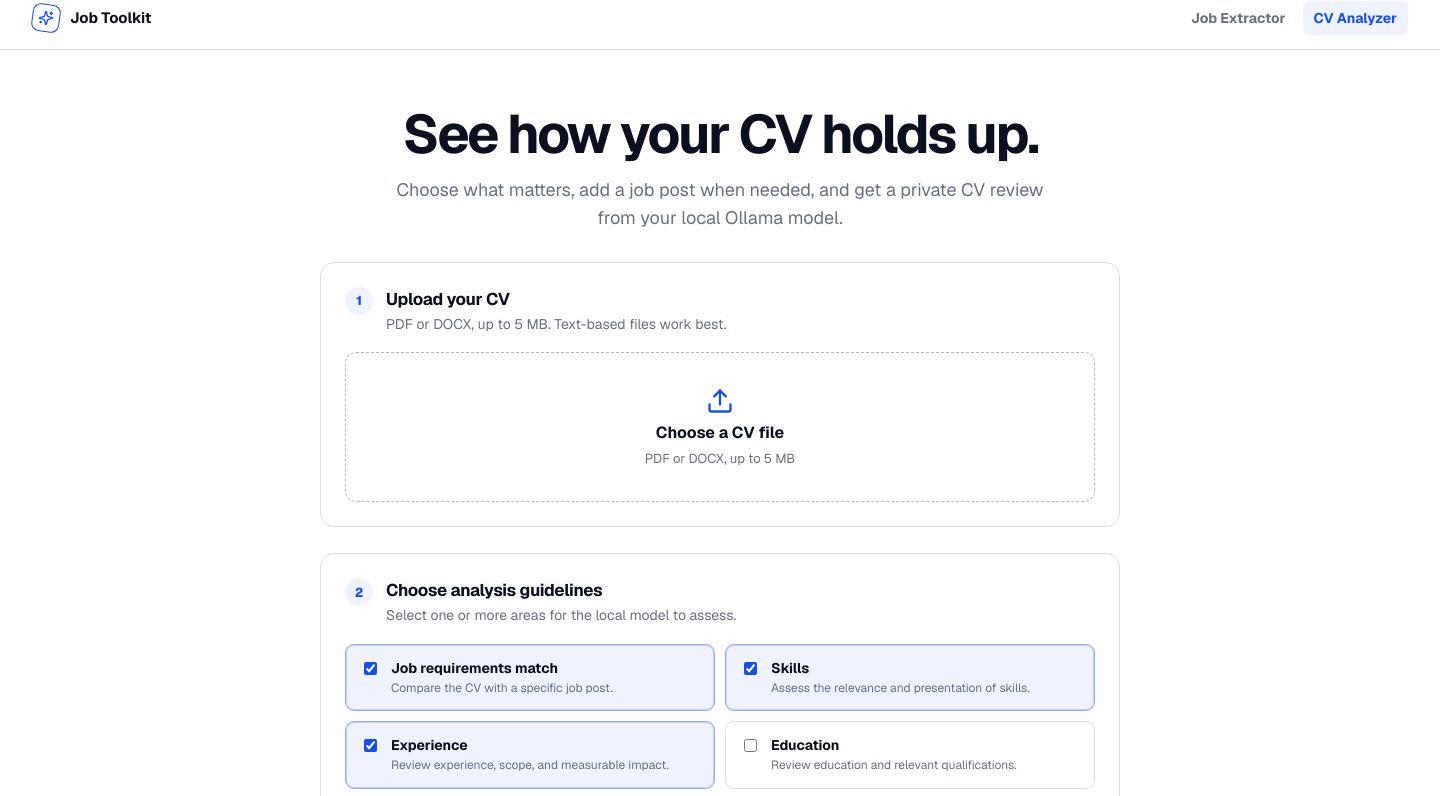
Test: CV analyzer UI › validates missing files and conditionally shows the target job input
The image size is (1440, 796).
Click the checkbox labelled "Job requirements match": point(370, 668) [364, 662, 377, 674]
(page scrolled)
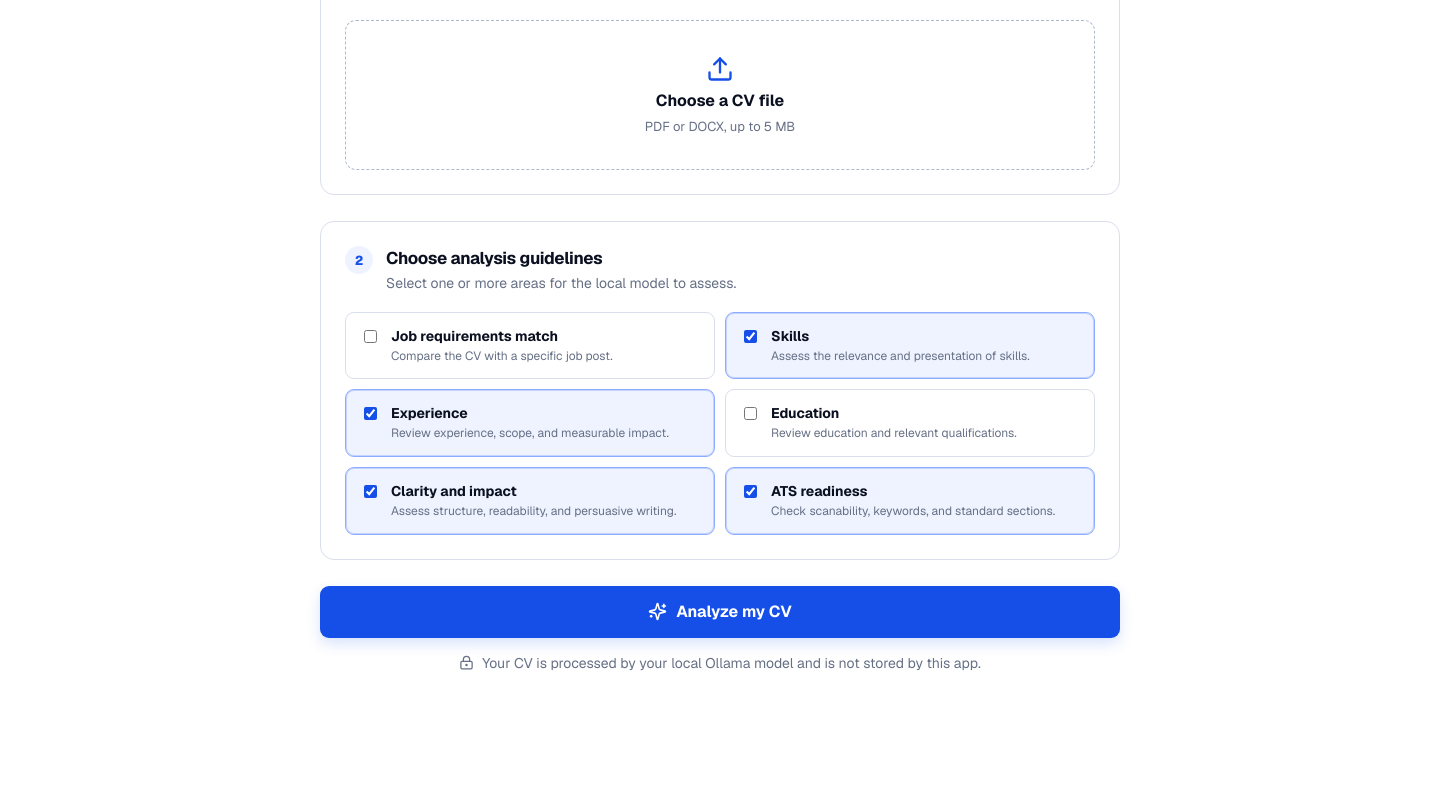
Click the button "Analyze my CV": point(720, 612) [320, 586, 1120, 638]
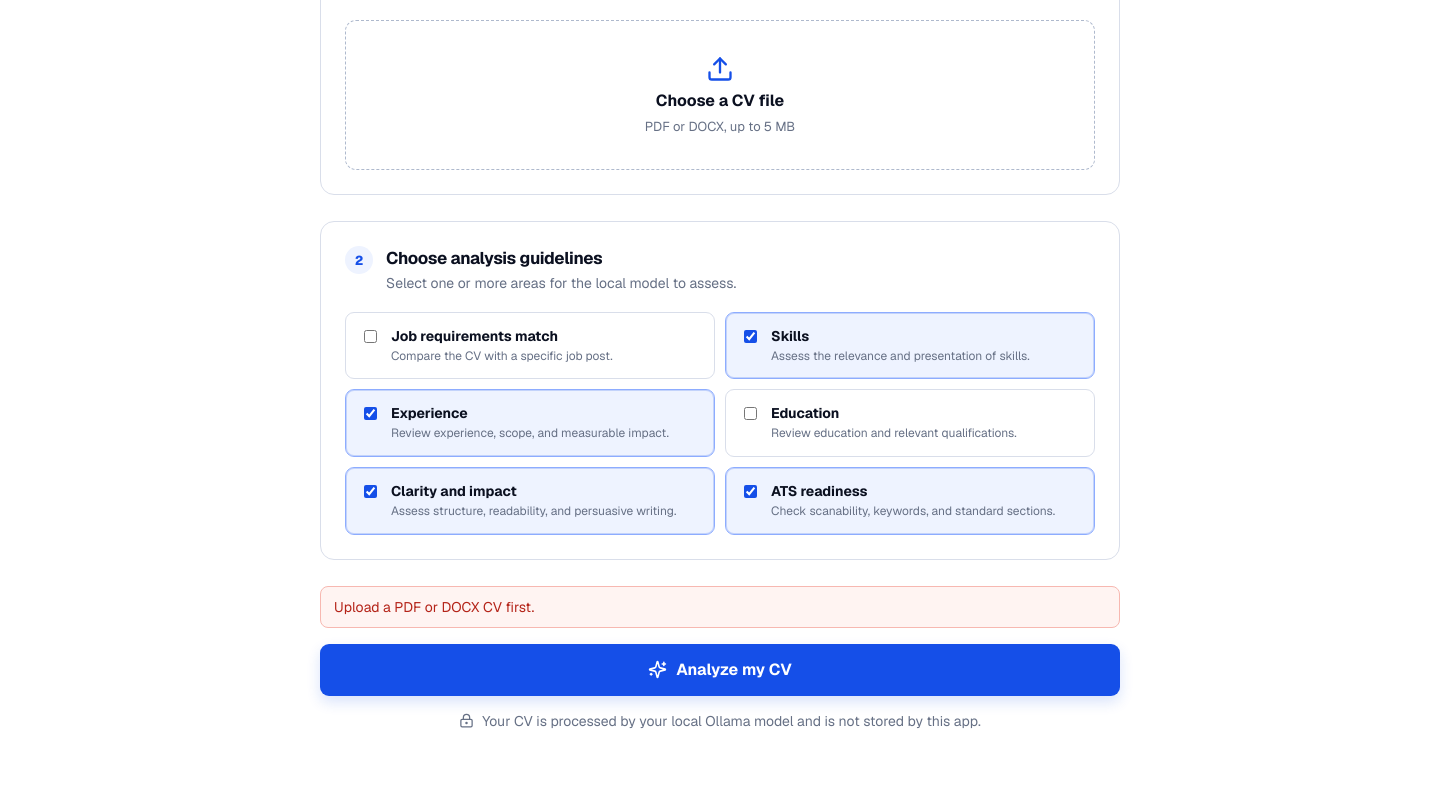
Expected: the message reads "Upload a PDF or DOCX CV first.", [334, 598, 534, 616]
